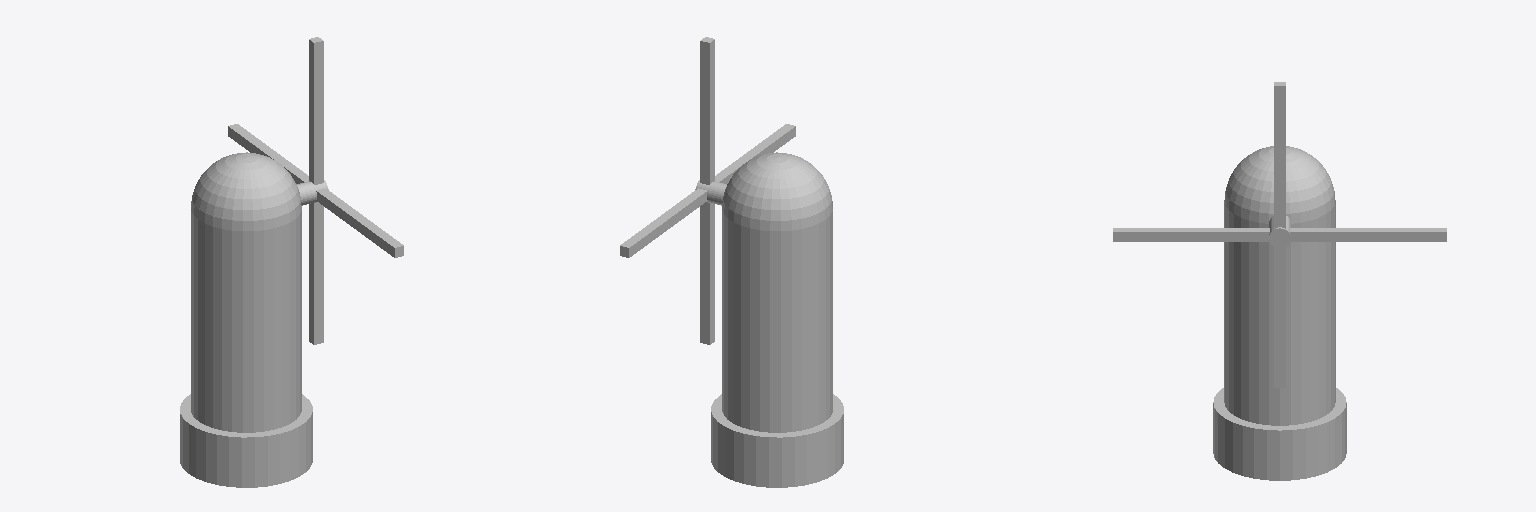
File: windmill.obj
3 renders of one model, left to right at view 1: azimuth 30°, elevation 25°; view 2: azimuth 150°, elevation 25°; view 3: azimuth 270°, elevation 25°, orthographic.
Visible parts, largest first — view 1: tube_Cylinder, base_Cylinder.001, sphere_Sphere, arm1_Cube.001, arm2_Cube.002; view 2: tube_Cylinder, base_Cylinder.001, sphere_Sphere, arm1_Cube.001, arm2_Cube.002; view 3: tube_Cylinder, base_Cylinder.001, sphere_Sphere, arm2_Cube.002, arm1_Cube.001.
Part boxes in pixels (x1,y1,x2,y2): tube_Cylinder: (191,210,301,432); base_Cylinder.001: (180,394,312,487); sphere_Sphere: (191,152,301,230); arm1_Cube.001: (309,37,323,344); arm2_Cube.002: (228,124,403,257); tube_Cylinder: (722,210,832,432); base_Cylinder.001: (711,394,843,487); sphere_Sphere: (722,152,832,230); arm1_Cube.001: (700,37,714,344); arm2_Cube.002: (620,124,795,257); tube_Cylinder: (1224,201,1335,425); base_Cylinder.001: (1213,388,1346,480); sphere_Sphere: (1224,146,1335,223); arm2_Cube.002: (1113,228,1446,241); arm1_Cube.001: (1274,82,1285,387).
Bounding box in the file's own units: 2.8 × 8 × 6.